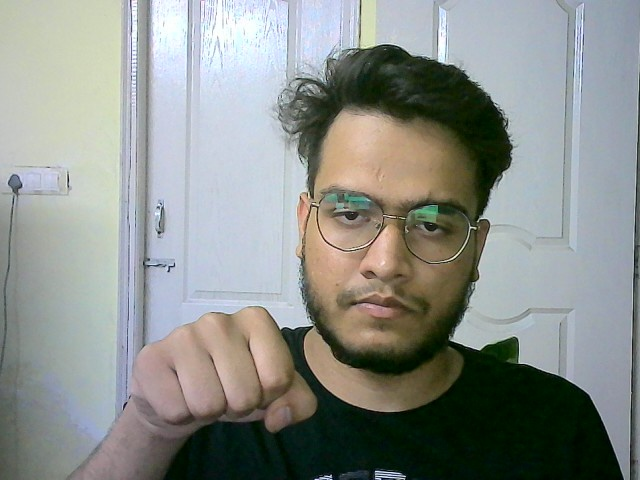Yes: (125, 294, 327, 444)
